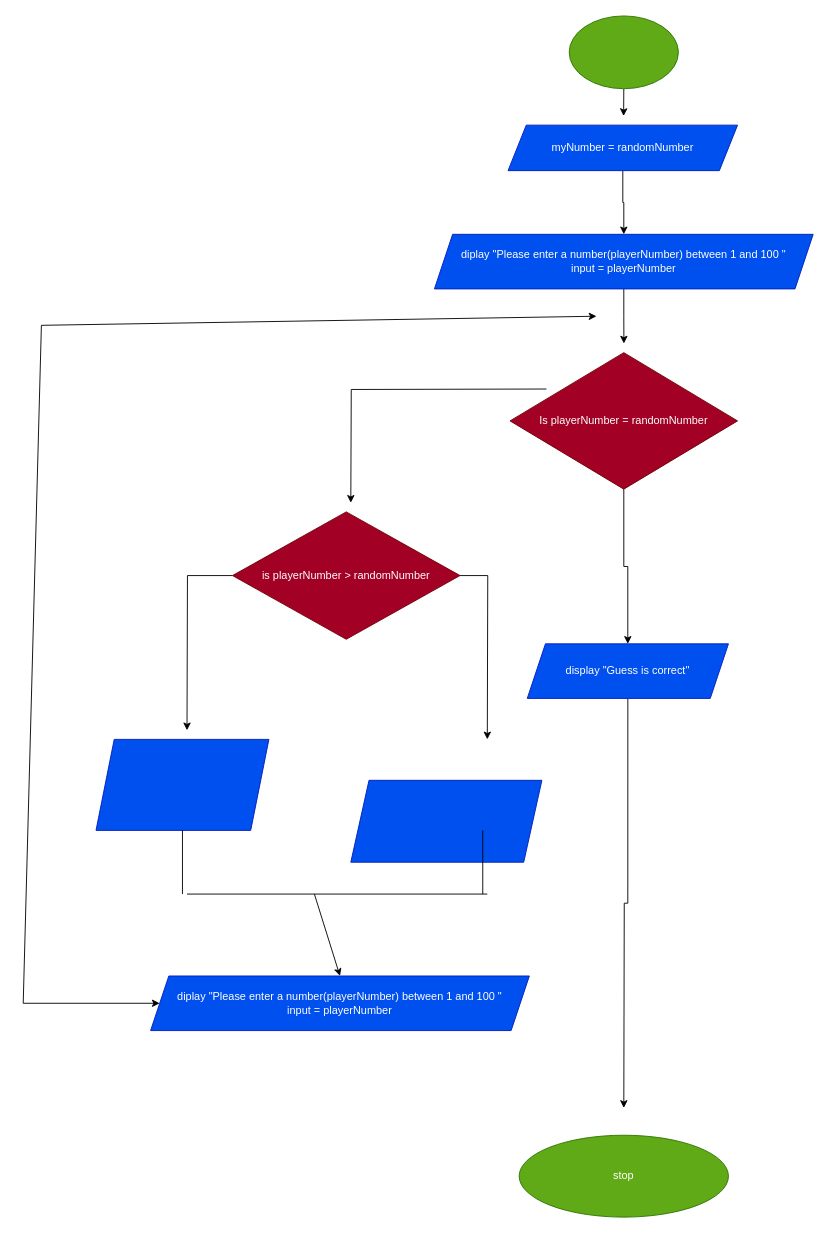
Some shapes in this 830 by 1233 pixel diagram are drawn without their labels. Each missing label, with the box of its shape:
display "Number is too high": (95, 738, 269, 830)
display "Number is too low": (350, 779, 542, 862)
start: (568, 15, 678, 89)
